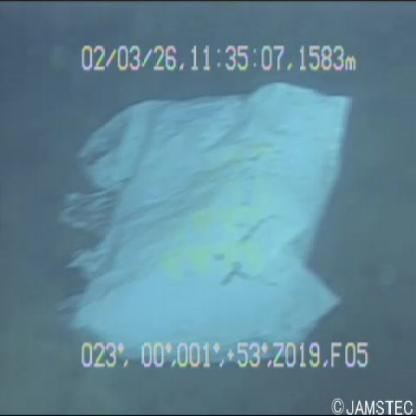Rác: (46, 66, 374, 377)
